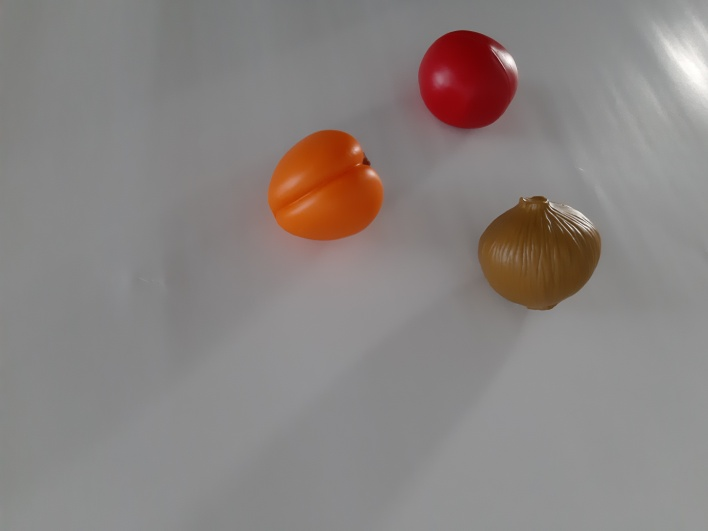apricot: (252, 108, 398, 270)
onion: (455, 182, 632, 332)
tomato: (405, 16, 538, 149)
